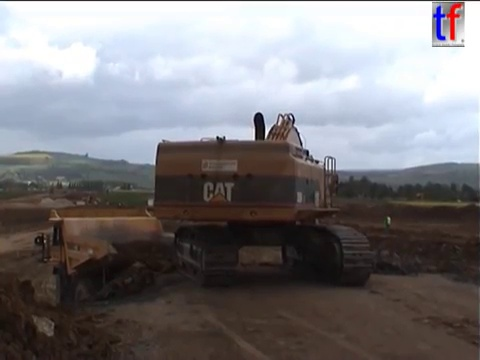excavator: (148, 109, 377, 289), (79, 194, 103, 209)
truck: (33, 205, 212, 307), (48, 186, 56, 196), (61, 187, 69, 195)
worker: (382, 212, 393, 231)
